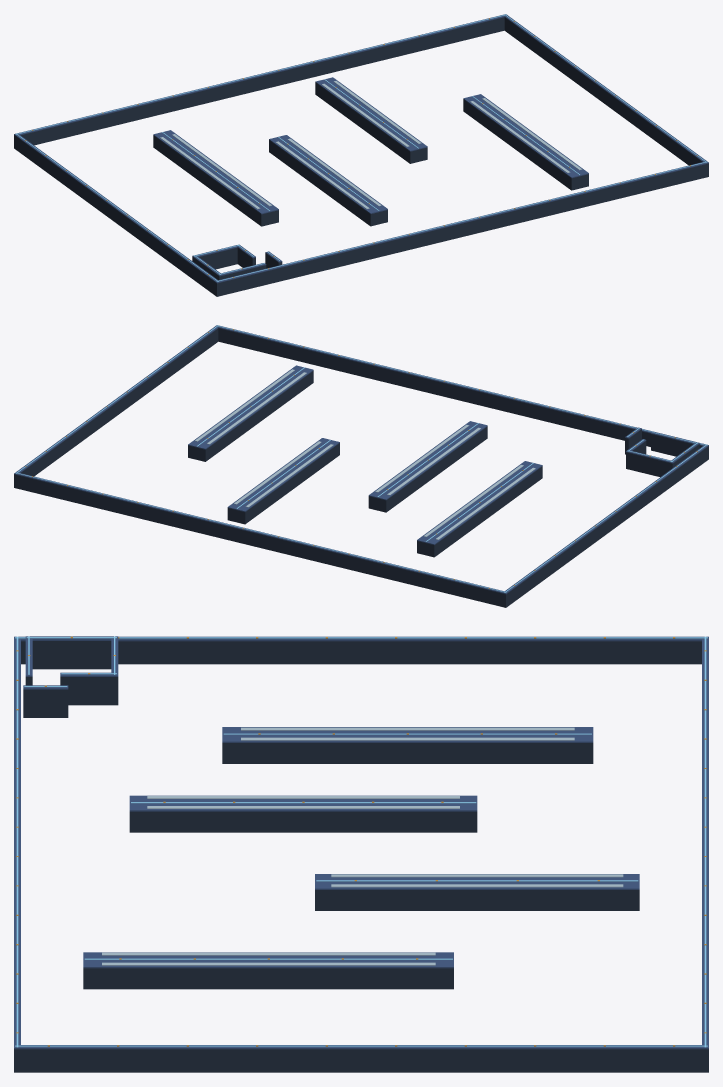
The model's file is campaign_light_maze.gltf.
3 views of the same model, one above another, from view 1: azimuth 30°, elevation 25°; view 2: azimuth 150°, elevation 25°; view 3: azimuth 270°, elevation 25° (orthographic). The views are drawn at different scales.
Visible parts, largest first — view 1: SOLID 1 border, SOLID 0 border, SOLID 2 border, SOLID 3 border, SOLID crown 0 border, SOLID crown 1 border, SOLID 9 cover, SOLID 12 cover, SOLID crown 12 cover, SOLID crown 9 cover, SOLID 10 cover, SOLID 11 cover (+7 smaller); view 2: SOLID 0 border, SOLID 1 border, SOLID 2 border, SOLID 3 border, SOLID crown 0 border, SOLID 9 cover, SOLID 12 cover, SOLID crown 1 border, SOLID 10 cover, SOLID crown 12 cover, SOLID crown 9 cover, SOLID 11 cover (+8 smaller); view 3: SOLID 3 border, SOLID 2 border, Armor shoulder (×8), SOLID 12 cover, SOLID 9 cover, SOLID 10 cover, SOLID 11 cover, SOLID crown 9 cover, SOLID crown 12 cover, SOLID crown 11 cover, SOLID crown 10 cover, SOLID crown 2 border (+13 smaller).
Part boxes in pixels (<box>): SOLID 1 border: <box>215,163,708,296</box>; SOLID 0 border: <box>14,17,504,149</box>; SOLID 2 border: <box>14,135,220,296</box>; SOLID 3 border: <box>504,17,708,177</box>; SOLID crown 0 border: <box>14,14,507,135</box>; SOLID crown 1 border: <box>215,162,708,283</box>; SOLID 9 cover: <box>153,135,278,226</box>; SOLID 12 cover: <box>463,99,588,190</box>; SOLID crown 12 cover: <box>463,94,588,178</box>; SOLID crown 9 cover: <box>153,130,278,214</box>; SOLID 10 cover: <box>269,140,387,226</box>; SOLID 11 cover: <box>315,82,427,163</box>; SOLID 0 border: <box>14,474,507,607</box>; SOLID 1 border: <box>218,328,701,447</box>; SOLID 2 border: <box>502,446,708,607</box>; SOLID 3 border: <box>14,328,218,487</box>; SOLID crown 0 border: <box>14,473,507,594</box>; SOLID 9 cover: <box>417,466,542,557</box>; SOLID 12 cover: <box>188,371,313,461</box>; SOLID crown 1 border: <box>215,325,707,446</box>; SOLID 10 cover: <box>368,426,487,512</box>; SOLID crown 12 cover: <box>188,365,313,449</box>; SOLID crown 9 cover: <box>417,461,542,544</box>; SOLID 11 cover: <box>227,443,339,524</box>; SOLID 3 border: <box>14,1049,708,1072</box>; SOLID 2 border: <box>21,641,701,664</box>; Armor shoulder (×8): <box>102,727,623,965</box>; SOLID 12 cover: <box>83,968,453,989</box>; SOLID 9 cover: <box>222,743,593,763</box>; SOLID 10 cover: <box>129,811,477,832</box>; SOLID 11 cover: <box>315,890,639,910</box>; SOLID crown 9 cover: <box>222,727,593,742</box>; SOLID crown 12 cover: <box>83,952,453,968</box>; SOLID crown 11 cover: <box>315,874,639,889</box>; SOLID crown 10 cover: <box>129,795,477,811</box>; SOLID crown 2 border: <box>14,636,707,641</box>.
Size of the model in its own units: 42 by 1.45 by 30.
